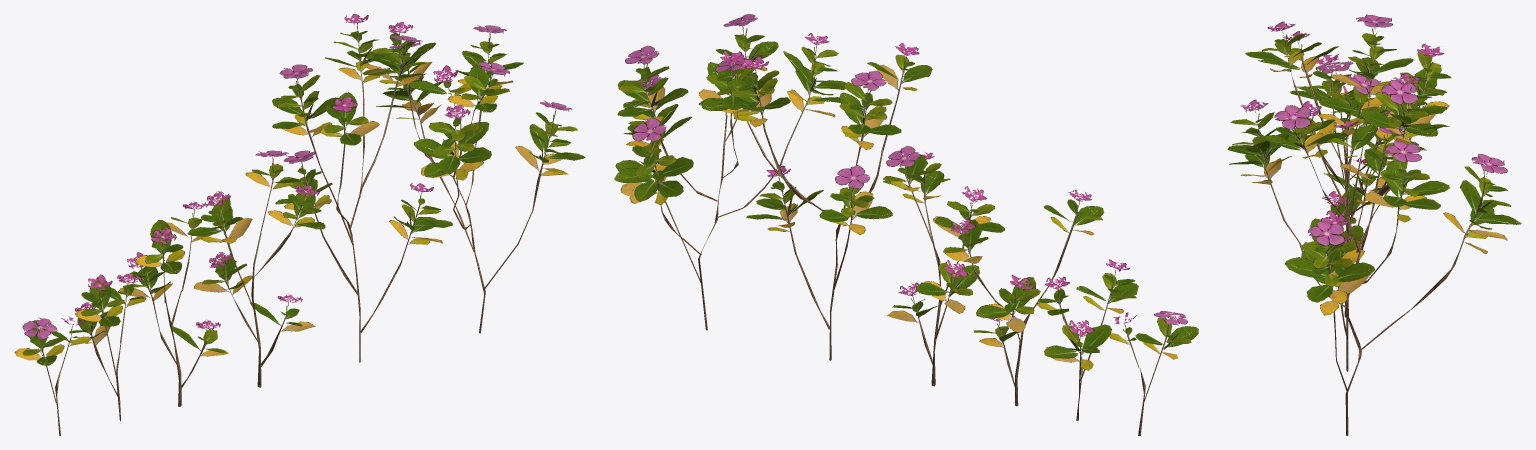
File: veg_periwinkle_plant.glb
3 renders of one model, left to right at view 1: azimuth 30°, elevation 25°; view 2: azimuth 150°, elevation 25°; view 3: azimuth 270°, elevation 25°, orthographic. The views are drawn at different scales.
Parts seen in each view (by area): view 1: periwinkle_plant_01_LOD0, periwinkle_plant_02_LOD0, periwinkle_plant_03_LOD0, periwinkle_plant_04_LOD0, periwinkle_plant_05_LOD0, periwinkle_plant_06_LOD0; view 2: periwinkle_plant_01_LOD0, periwinkle_plant_02_LOD0, periwinkle_plant_03_LOD0, periwinkle_plant_04_LOD0, periwinkle_plant_05_LOD0, periwinkle_plant_06_LOD0; view 3: periwinkle_plant_01_LOD0, periwinkle_plant_02_LOD0, periwinkle_plant_03_LOD0, periwinkle_plant_04_LOD0, periwinkle_plant_05_LOD0, periwinkle_plant_06_LOD0.
Part boxes in pixels (x1=…): periwinkle_plant_01_LOD0: x1=362, y1=22, x2=585, y2=333; periwinkle_plant_02_LOD0: x1=272, y1=14, x2=452, y2=362; periwinkle_plant_03_LOD0: x1=187, y1=150, x2=325, y2=387; periwinkle_plant_04_LOD0: x1=117, y1=201, x2=228, y2=406; periwinkle_plant_05_LOD0: x1=68, y1=273, x2=146, y2=421; periwinkle_plant_06_LOD0: x1=14, y1=317, x2=91, y2=435; periwinkle_plant_01_LOD0: x1=614, y1=14, x2=847, y2=330; periwinkle_plant_02_LOD0: x1=699, y1=43, x2=932, y2=360; periwinkle_plant_03_LOD0: x1=883, y1=146, x2=1004, y2=386; periwinkle_plant_04_LOD0: x1=943, y1=189, x2=1103, y2=406; periwinkle_plant_05_LOD0: x1=1037, y1=259, x2=1138, y2=420; periwinkle_plant_06_LOD0: x1=1108, y1=311, x2=1198, y2=435; periwinkle_plant_01_LOD0: x1=1227, y1=73, x2=1521, y2=435; periwinkle_plant_02_LOD0: x1=1245, y1=14, x2=1450, y2=371; periwinkle_plant_03_LOD0: x1=1276, y1=74, x2=1390, y2=317; periwinkle_plant_04_LOD0: x1=1258, y1=31, x2=1426, y2=229; periwinkle_plant_05_LOD0: x1=1290, y1=54, x2=1418, y2=191; periwinkle_plant_06_LOD0: x1=1296, y1=61, x2=1373, y2=164.
Bounding box in the file's own units: 1.38 × 0.7394 × 0.5777.
Materials: 1 (1 with a texture image).
